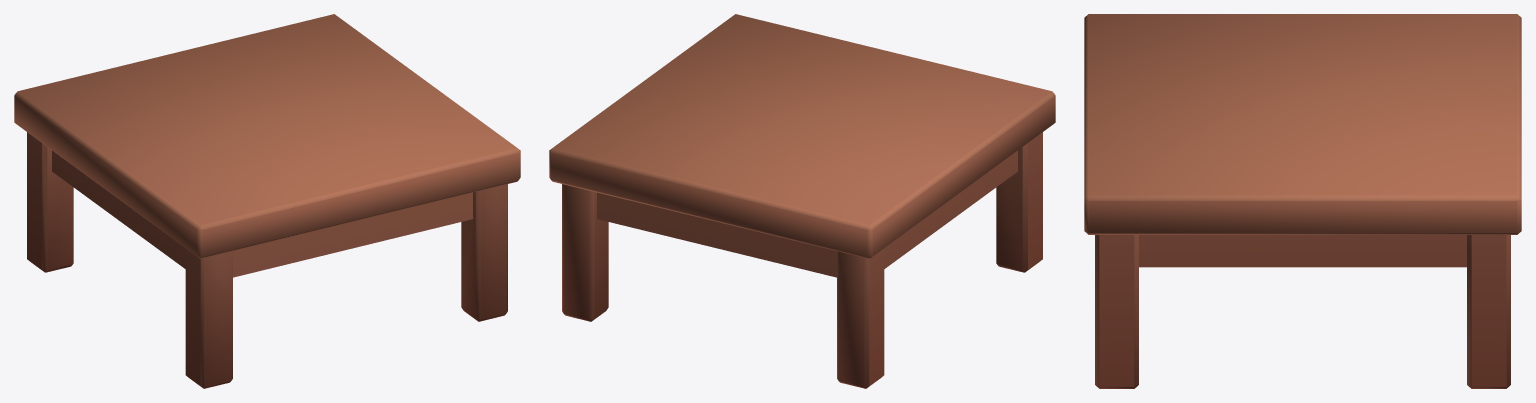
Rendered from kkf.table_medium.glb.
The picture shows the model from 3 angles, left to right: view 1: azimuth 30°, elevation 25°; view 2: azimuth 150°, elevation 25°; view 3: azimuth 270°, elevation 25°; orthographic projection. The views are drawn at different scales.
Visible parts, largest first — view 1: table_medium; view 2: table_medium; view 3: table_medium.
Boxes of the visible parts, left/top/right/bottom form: table_medium: left=14, top=14, right=520, bottom=388; table_medium: left=549, top=14, right=1055, bottom=388; table_medium: left=1084, top=14, right=1521, bottom=388.
Size of the model in its own units: 1.43 by 0.7155 by 1.43.
Materials: 1 (1 with a texture image).
